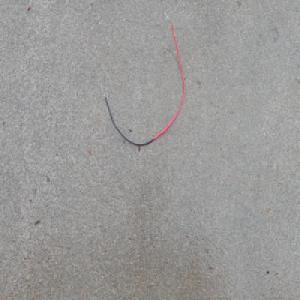Wire: (98, 12, 184, 147)
